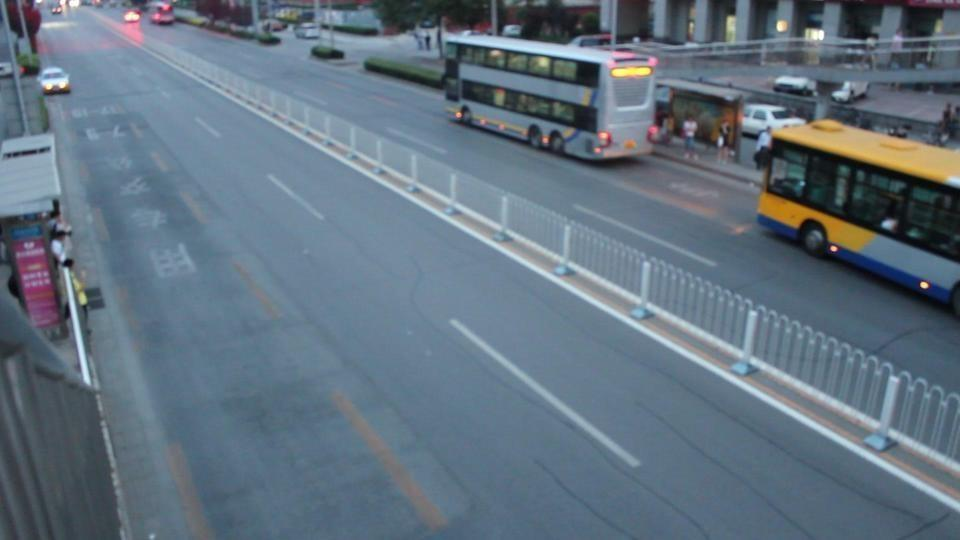car: (739, 105, 807, 140), (770, 74, 818, 100), (38, 67, 71, 95), (830, 81, 870, 104), (147, 1, 175, 26), (294, 23, 321, 40), (122, 8, 142, 23), (0, 61, 16, 78)
